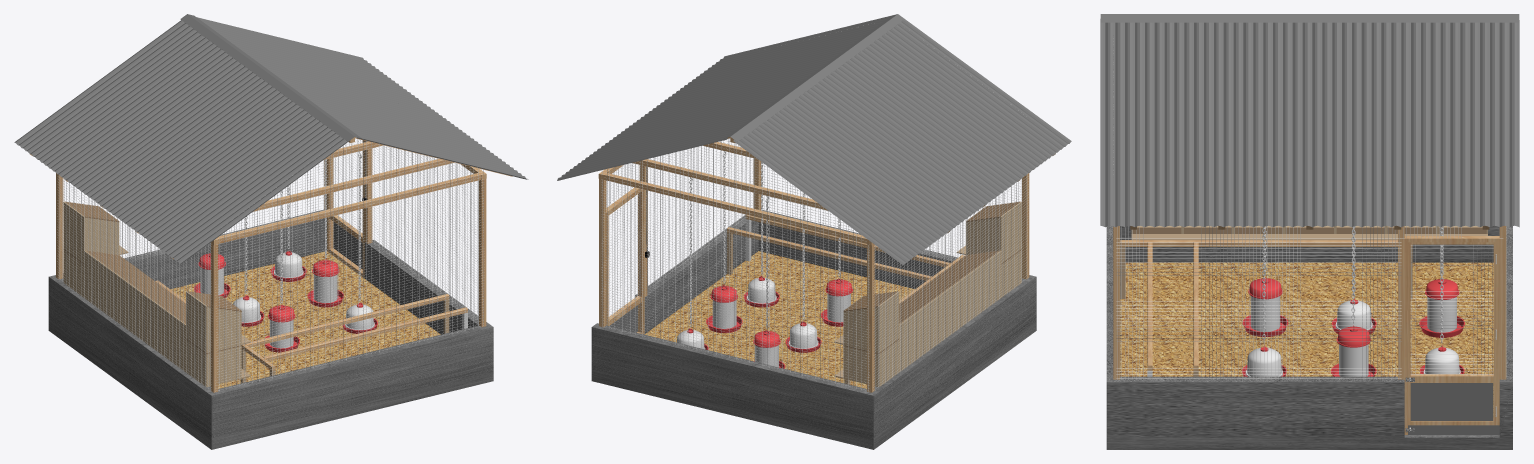
Rendered from 3x3 Dual Purpose.glb.
3 views of the same model, side by side, from view 1: azimuth 30°, elevation 25°; view 2: azimuth 150°, elevation 25°; view 3: azimuth 270°, elevation 25° (orthographic). The views are drawn at different scales.
Visible parts, largest first — view 1: 0.9m x 6m__0.4mm divide into 3 - Back, Cement, 0.9m x 6m__0.4mm divide into 3 - Front, Rice Hull, Mesh Wire Vertical 0.025x0.025x0.0016m, Mesh Wire Horizontal 0.025x0.025x0.0016m, Mesh Wire Vertical 0.025x0.025x0.0016m.Back, Mesh Wire Vertical 0.025x0.025x0.0016m.Front, Mesh Wire Horizontal 0.025x0.025x0.0016m.Back, Perch 1 L:2.16m, Size:40mmx40mm, Ridge Roll, Wall Plate Left (+27 smaller); view 2: 0.9m x 6m__0.4mm divide into 3 - Back, Cement, 0.9m x 6m__0.4mm divide into 3 - Front, Rice Hull, Mesh Wire Vertical 0.025x0.025x0.0016m.Right, Mesh Wire Horizontal 0.025x0.025x0.0016m.Right, Mesh Wire Vertical 0.025x0.025x0.0016m.Back, Mesh Wire Horizontal 0.025x0.025x0.0016m.Back, Mesh Wire Vertical 0.025x0.025x0.0016m.Front, Ridge Roll, Wall Plate Right, Perch 1 L:2.16m, Size:40mmx40mm (+26 smaller); view 3: 0.9m x 6m__0.4mm divide into 3 - Front, Cement, Rice Hull, Mesh Wire Horizontal 0.025x0.025x0.0016m.Front, Mesh Wire Vertical 0.025x0.025x0.0016m.Front, Ridge Roll, Door Silver, Door Frame, Frame, Mesh Wire Horizontal 0.025x0.025x0.0016m.Door, Perch 2 L:2.16m, Size:40mmx40mm, Perch 1 L:2.16m, Size:40mmx40mm (+16 smaller).
Part boxes in pixels (x1,y1,x2,y2): 0.9m x 6m__0.4mm divide into 3 - Back: (14,20,347,263); Cement: (48,209,493,449); 0.9m x 6m__0.4mm divide into 3 - Front: (196,17,528,179); Rice Hull: (170,251,440,388); Mesh Wire Vertical 0.025x0.025x0.0016m: (219,139,483,391); Mesh Wire Horizontal 0.025x0.025x0.0016m: (215,140,483,391); Mesh Wire Vertical 0.025x0.025x0.0016m.Back: (59,175,210,390); Mesh Wire Vertical 0.025x0.025x0.0016m.Front: (374,146,478,320); Mesh Wire Horizontal 0.025x0.025x0.0016m.Back: (57,174,211,390); Perch 1 L:2.16m, Size:40mmx40mm: (245,294,467,360); Ridge Roll: (180,14,361,141); Wall Plate Left: (217,173,481,243); 0.9m x 6m__0.4mm divide into 3 - Back: (733,19,1071,265); Cement: (591,210,1036,449); 0.9m x 6m__0.4mm divide into 3 - Front: (557,16,889,180); Rice Hull: (645,251,914,388); Mesh Wire Vertical 0.025x0.025x0.0016m.Right: (602,138,868,391); Mesh Wire Horizontal 0.025x0.025x0.0016m.Right: (601,140,869,391); Mesh Wire Vertical 0.025x0.025x0.0016m.Back: (875,176,1026,390); Mesh Wire Horizontal 0.025x0.025x0.0016m.Back: (873,176,1027,390); Mesh Wire Vertical 0.025x0.025x0.0016m.Front: (606,139,753,290); Ridge Roll: (724,14,904,141); Wall Plate Right: (603,173,866,243); Perch 1 L:2.16m, Size:40mmx40mm: (727,214,950,280); 0.9m x 6m__0.4mm divide into 3 - Front: (1100,19,1519,227); Cement: (1106,225,1512,449); Rice Hull: (1120,262,1493,418); Mesh Wire Horizontal 0.025x0.025x0.0016m.Front: (1116,238,1502,378); Mesh Wire Vertical 0.025x0.025x0.0016m.Front: (1117,226,1461,379); Ridge Roll: (1100,14,1519,22); Door Silver: (1410,383,1493,420); Door Frame: (1408,242,1495,425); Frame: (1404,236,1499,434); Mesh Wire Horizontal 0.025x0.025x0.0016m.Door: (1411,245,1493,374); Perch 2 L:2.16m, Size:40mmx40mm: (1120,240,1412,246); Perch 1 L:2.16m, Size:40mmx40mm: (1147,242,1198,370).
Bounding box in the file's own units: 3.7 × 2.85 × 3.09.
38 materials, 3 textured.
